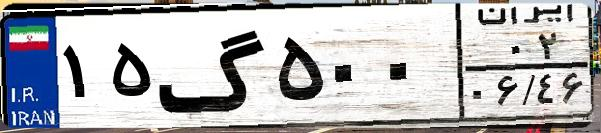0: (385, 28, 445, 110), (330, 28, 385, 110), (508, 27, 537, 80), (470, 70, 495, 125)
1: (57, 26, 110, 100)
2: (537, 27, 568, 80)
4: (535, 70, 560, 125)
5: (270, 28, 330, 110), (110, 28, 156, 98)
6: (560, 70, 590, 125), (495, 70, 520, 125)
گ: (156, 12, 270, 120)
